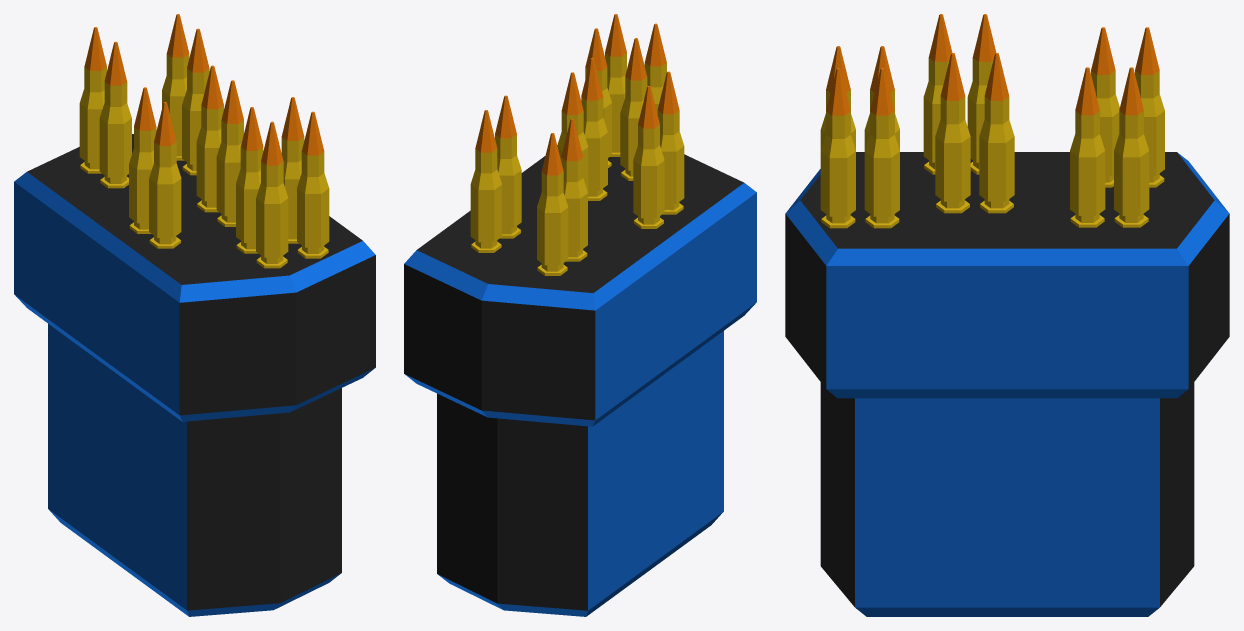
Rendered from Sniper Ammo Box.glb.
The picture shows the model from 3 angles, left to right: view 1: azimuth 30°, elevation 25°; view 2: azimuth 150°, elevation 25°; view 3: azimuth 270°, elevation 25°; orthographic projection. The views are drawn at different scales.
Parts seen in each view (by area): view 1: SniperAmmo_Box_Cylinder; view 2: SniperAmmo_Box_Cylinder; view 3: SniperAmmo_Box_Cylinder.
Part boxes in pixels (<box>): SniperAmmo_Box_Cylinder: <box>14,14,375,616</box>; SniperAmmo_Box_Cylinder: <box>404,14,756,616</box>; SniperAmmo_Box_Cylinder: <box>785,14,1229,616</box>.
Bounding box in the file's own units: 1.13 × 2.69 × 2.03.
